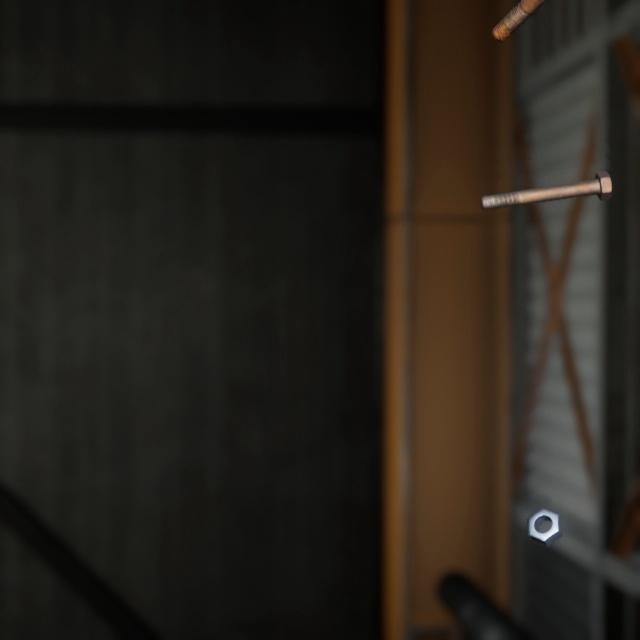bolt: (475, 152, 616, 199), (487, 0, 545, 39), (261, 609, 325, 640)
nut: (523, 482, 567, 528)
